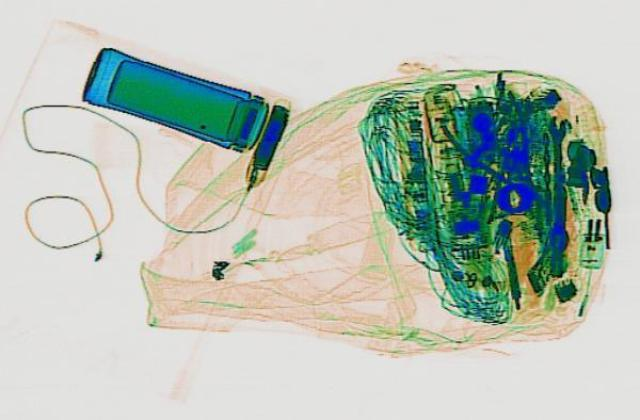Wrench: (546, 112, 570, 250)
